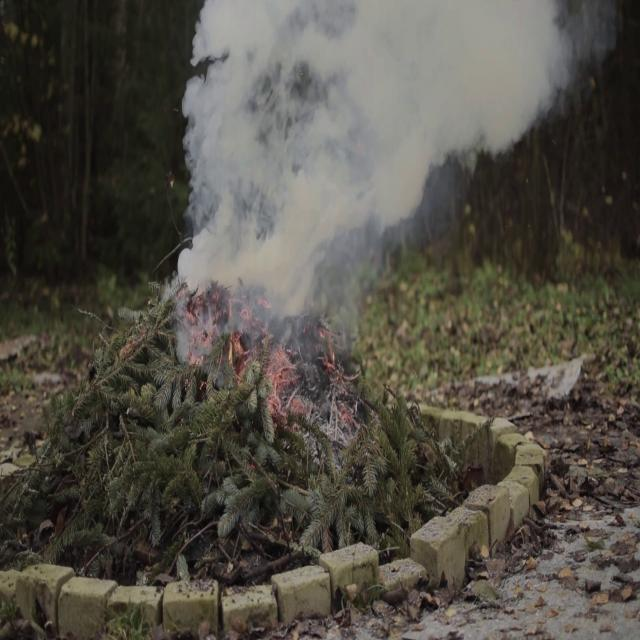Smoke: (170, 0, 580, 296)
